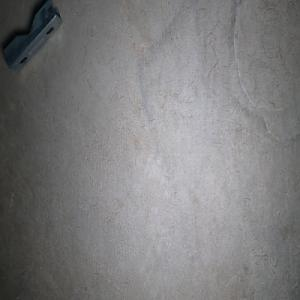ClampPart: (2, 0, 63, 73)
